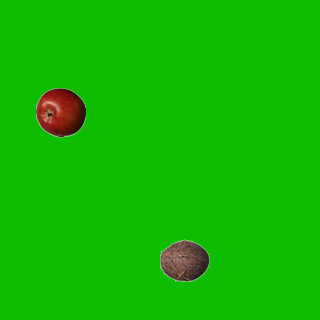Apple Braeburn: (35, 87, 85, 137)
Cocos: (159, 235, 209, 285)
